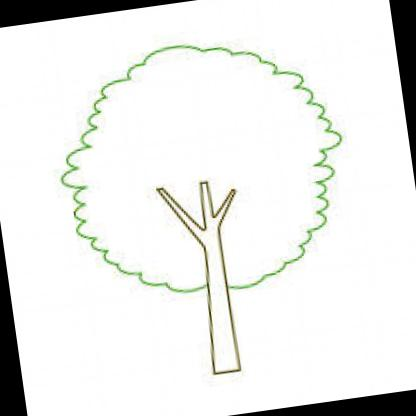branch_cut: (152, 172, 245, 256)
crown_cloud: (46, 24, 360, 311)
trunk_straight: (197, 296, 245, 360)
